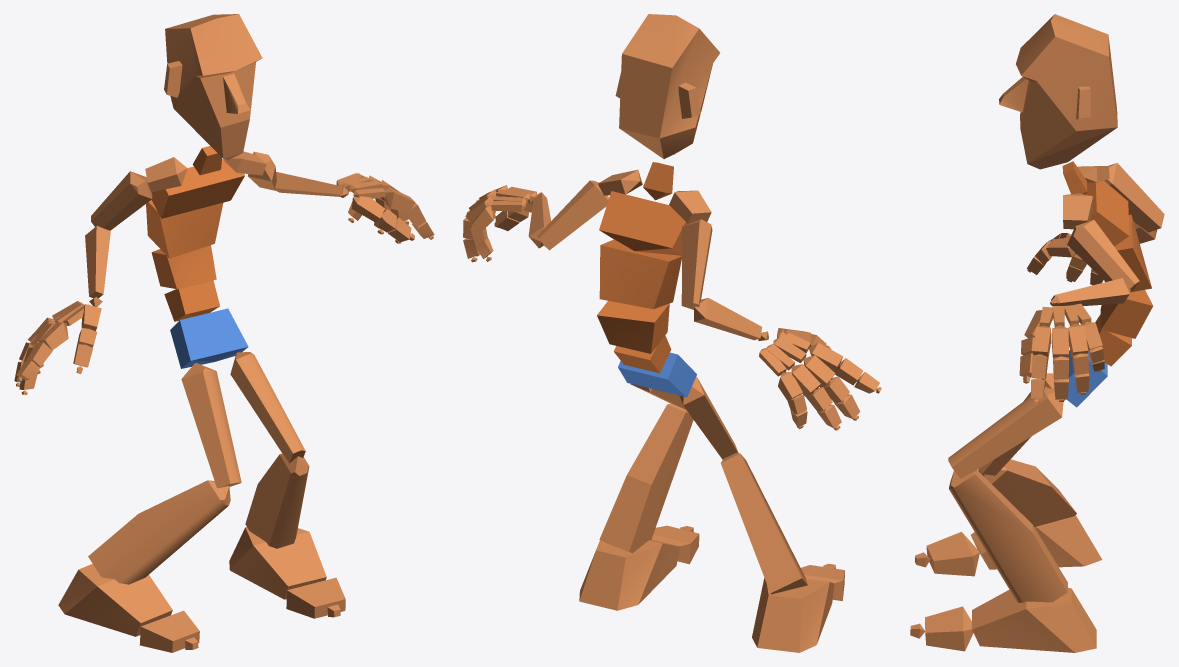
Rendered from prueba183.obj.
The picture shows the model from 3 angles, left to right: view 1: azimuth 30°, elevation 25°; view 2: azimuth 150°, elevation 25°; view 3: azimuth 270°, elevation 25°; orthographic projection. The views are drawn at different scales.
Parts seen in each view (by area): view 1: BOPED_Head, BOPED_R_leg, BOPED_R_foot, BOPED_R_foot01, BOPED_L_leg, BOPED_R_legup, Bone01, BOPED_L_legup, Bone04, Bone05, Bone03, BOPED_R_arm_upper (+8 smaller); view 2: BOPED_Head, BOPED_L_leg, BOPED_R_foot01, BOPED_R_leg, BOPED_R_foot, Bone04, Bone05, Bone03, BOPED_R_arm_upper, BOPED_L_arm_upper, Bone01, BOPED_R_legup (+8 smaller); view 3: BOPED_Head, BOPED_L_leg, BOPED_R_foot01, BOPED_L_legup, BOPED_R_leg, BOPED_R_foot, BOPED_L_arm_upper, Bone05, BOPED_R_foot_toe01, BOPED_R_arm_upper, BOPED_R_foot_toe04, Bone03 (+14 smaller).
Part boxes in pixels (x1=…): BOPED_Head: x1=164, y1=14, x2=262, y2=159; BOPED_R_leg: x1=88, y1=480, x2=230, y2=584; BOPED_R_foot: x1=58, y1=564, x2=172, y2=636; BOPED_R_foot01: x1=229, y1=527, x2=326, y2=599; BOPED_L_leg: x1=245, y1=453, x2=309, y2=548; BOPED_R_legup: x1=181, y1=363, x2=241, y2=488; Bone01: x1=170, y1=308, x2=248, y2=368; BOPED_L_legup: x1=230, y1=352, x2=305, y2=463; Bone04: x1=146, y1=200, x2=223, y2=258; Bone05: x1=151, y1=159, x2=244, y2=218; Bone03: x1=151, y1=245, x2=216, y2=288; BOPED_R_arm_upper: x1=91, y1=171, x2=152, y2=230; BOPED_Head: x1=615, y1=14, x2=719, y2=158; BOPED_L_leg: x1=599, y1=403, x2=693, y2=553; BOPED_R_foot01: x1=579, y1=539, x2=679, y2=610; BOPED_R_leg: x1=720, y1=452, x2=807, y2=594; BOPED_R_foot: x1=752, y1=578, x2=834, y2=652; Bone04: x1=599, y1=239, x2=681, y2=309; Bone05: x1=599, y1=191, x2=688, y2=255; Bone03: x1=597, y1=301, x2=669, y2=353; BOPED_R_arm_upper: x1=681, y1=219, x2=712, y2=309; BOPED_L_arm_upper: x1=537, y1=180, x2=608, y2=250; Bone01: x1=618, y1=352, x2=696, y2=397; BOPED_R_legup: x1=679, y1=376, x2=738, y2=459; BOPED_Head: x1=999, y1=14, x2=1117, y2=169; BOPED_L_leg: x1=949, y1=470, x2=1067, y2=602; BOPED_R_foot01: x1=972, y1=587, x2=1096, y2=652; BOPED_L_legup: x1=948, y1=386, x2=1063, y2=478; BOPED_R_leg: x1=978, y1=459, x2=1076, y2=527; BOPED_R_foot: x1=971, y1=515, x2=1102, y2=569; BOPED_L_arm_upper: x1=1067, y1=220, x2=1139, y2=291; Bone05: x1=1086, y1=180, x2=1129, y2=246; BOPED_R_foot_toe01: x1=926, y1=531, x2=979, y2=576; BOPED_R_arm_upper: x1=1104, y1=163, x2=1164, y2=232; BOPED_R_foot_toe04: x1=925, y1=606, x2=973, y2=651; Bone03: x1=1100, y1=290, x2=1152, y2=338.
Size of the model in its own units: 130 by 173 by 67.33.
